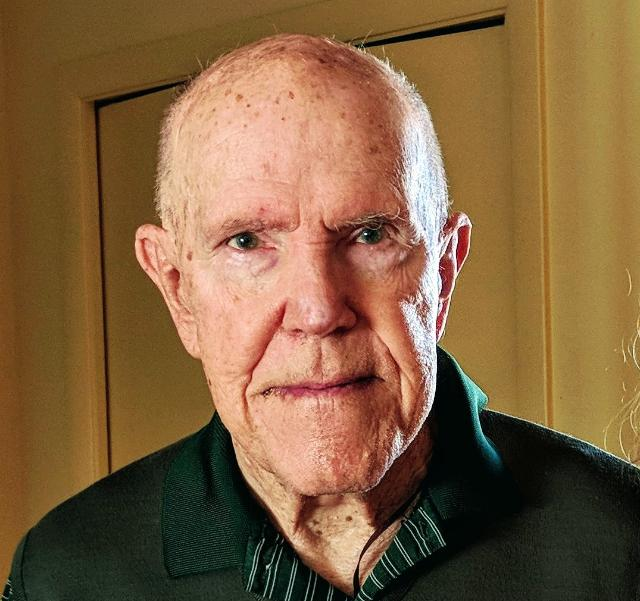frown_line: (290, 201, 330, 253)
gummy_smile: (352, 309, 408, 376), (240, 307, 286, 383)
sad_smile: (386, 382, 414, 432), (237, 382, 261, 438)
smoker_lines: (308, 345, 330, 379)
